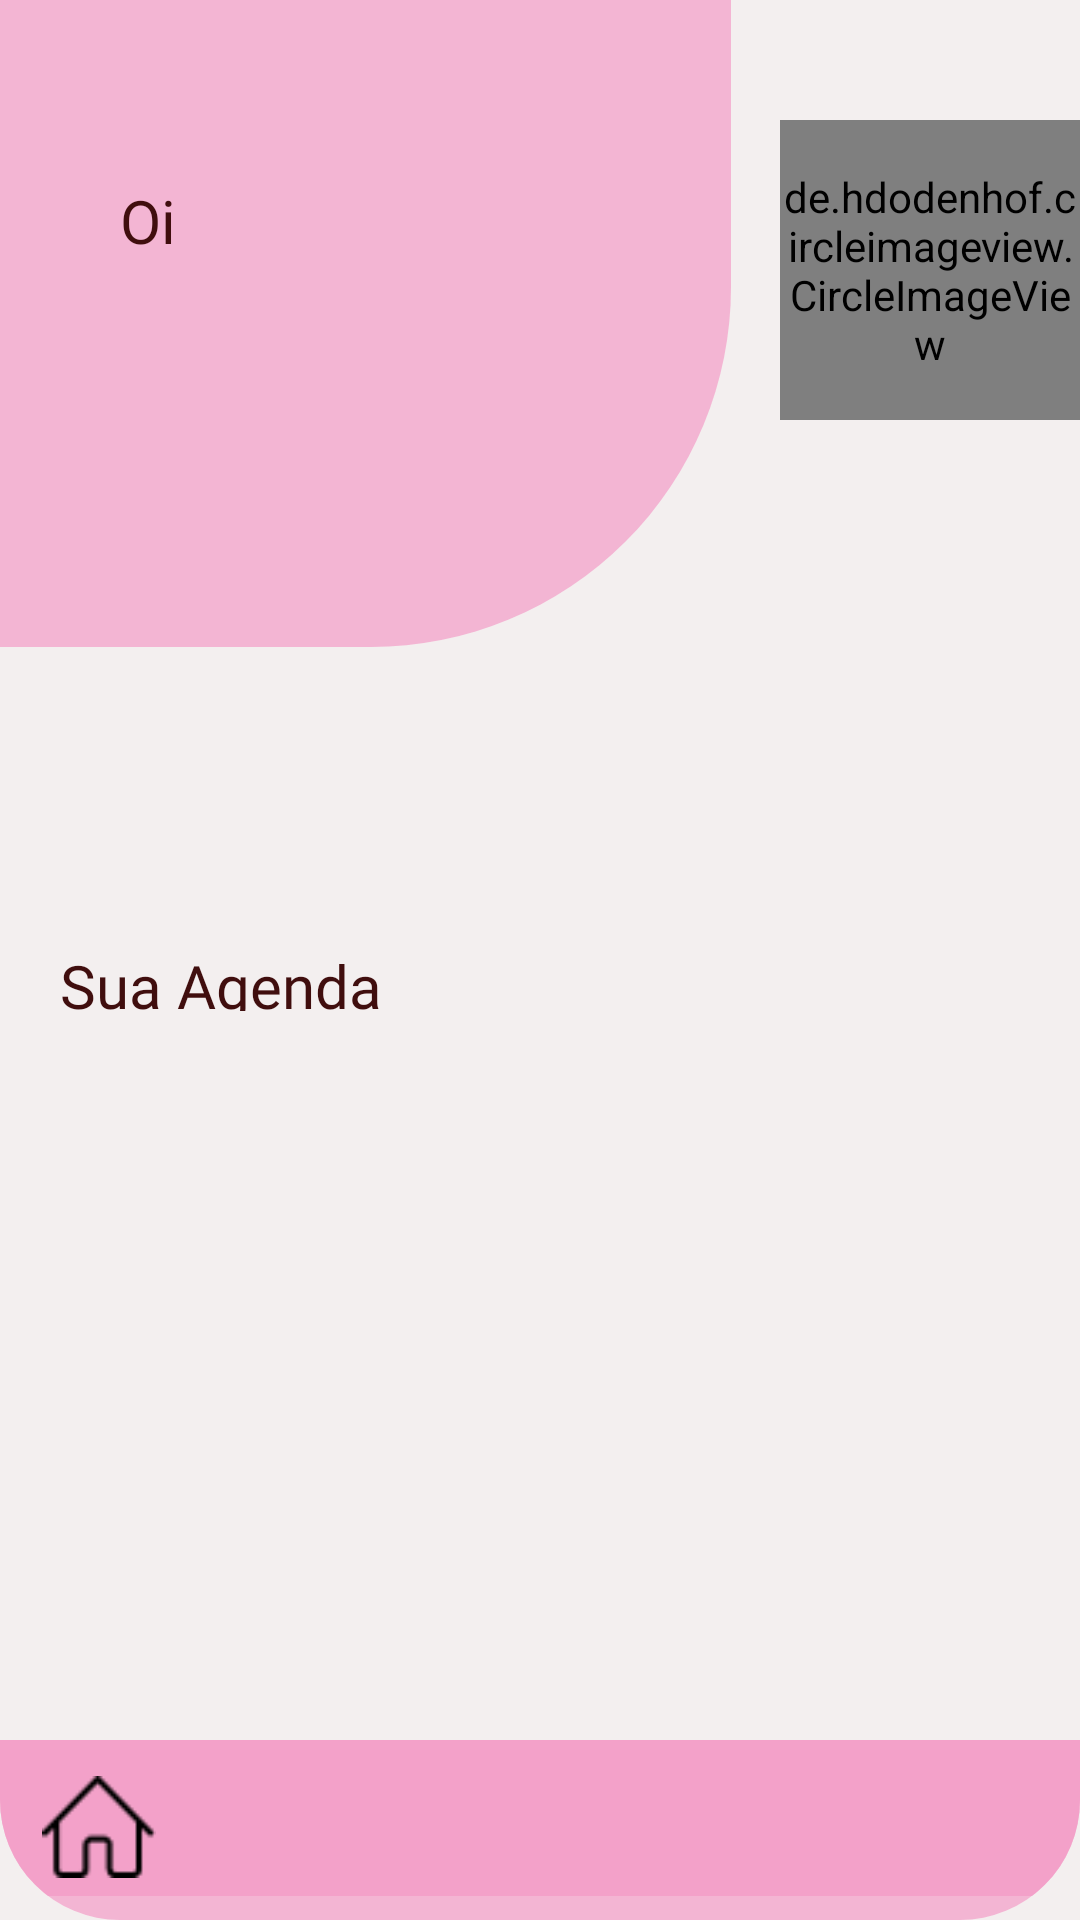

Point at icon controls on the screen. Image size 1080*1920, points as point (x, y).
home: point (99, 1827)
